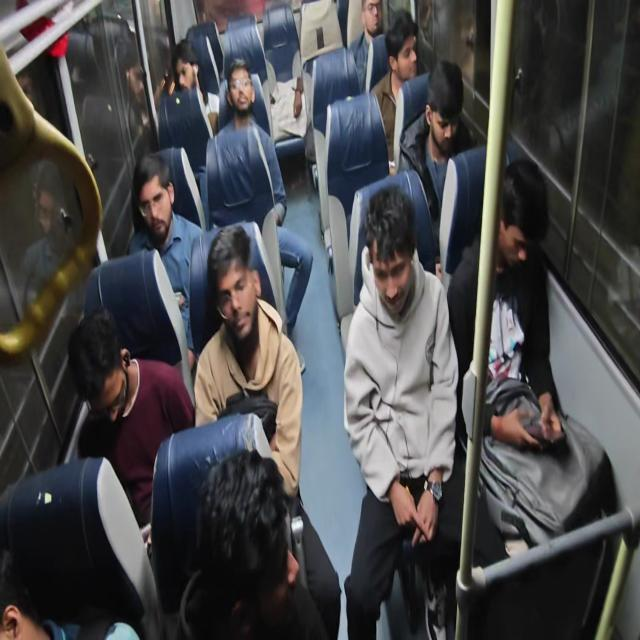person: (193, 223, 341, 637), (342, 184, 460, 638), (446, 157, 567, 557), (216, 57, 314, 374), (67, 305, 195, 538), (1, 455, 161, 639), (176, 448, 328, 639), (396, 59, 475, 273), (127, 151, 204, 368), (19, 160, 75, 314), (370, 8, 419, 170), (116, 35, 158, 161), (170, 38, 219, 138), (348, 0, 388, 94)
